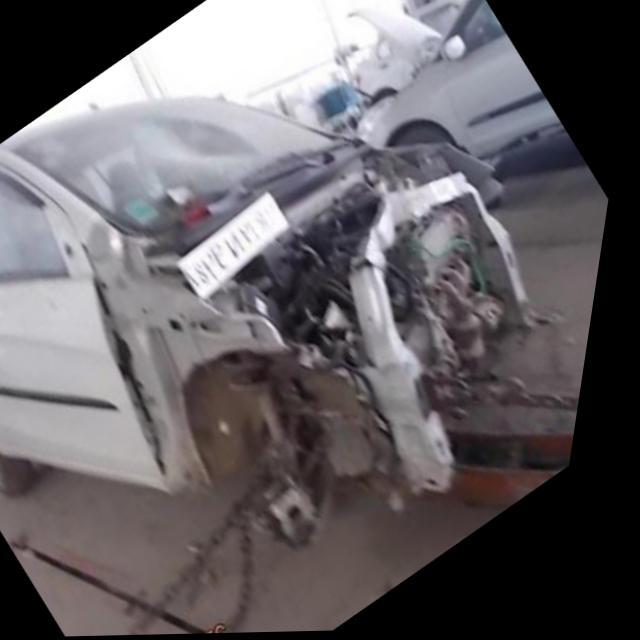no part: (123, 157, 548, 519)
